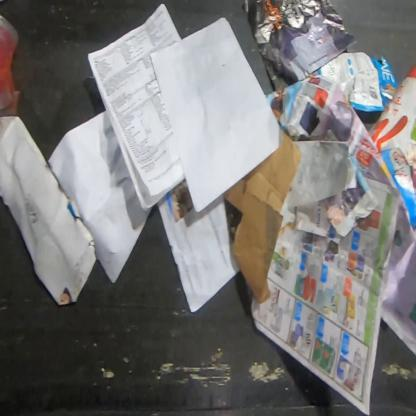cardboard: (0, 114, 98, 308), (223, 127, 304, 306), (367, 59, 416, 230), (306, 51, 401, 113)
rigid_plastic: (0, 14, 23, 116)
